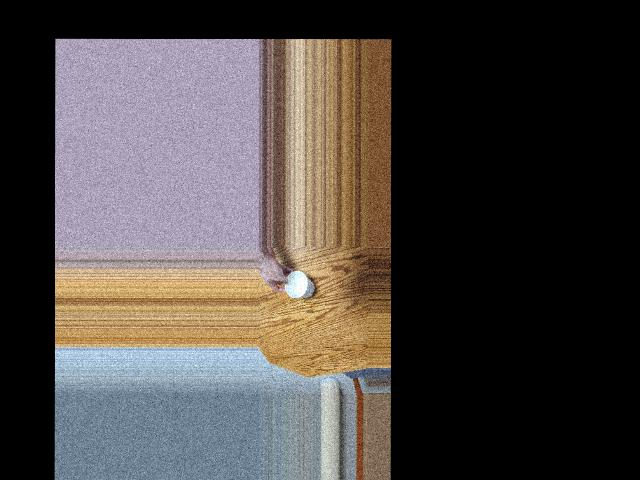cotage: (280, 270, 311, 300)
